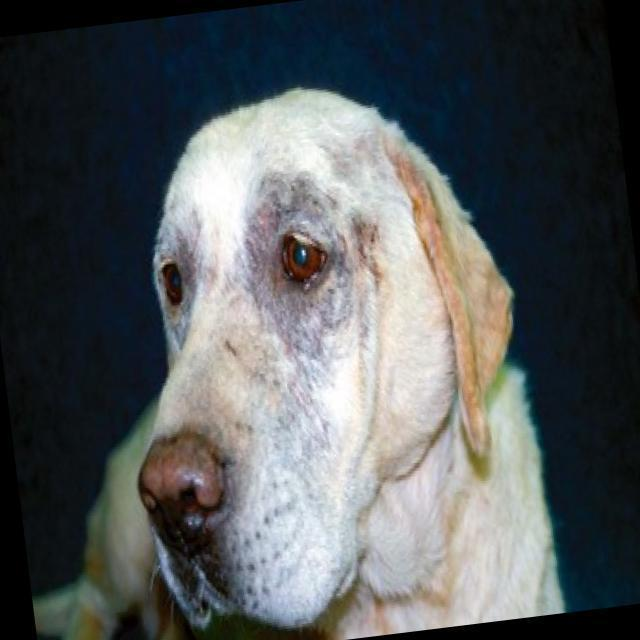allergic dermatitis: (278, 319, 332, 501), (250, 172, 324, 238), (234, 219, 275, 305), (262, 288, 344, 324), (322, 216, 348, 306), (178, 228, 204, 310)
